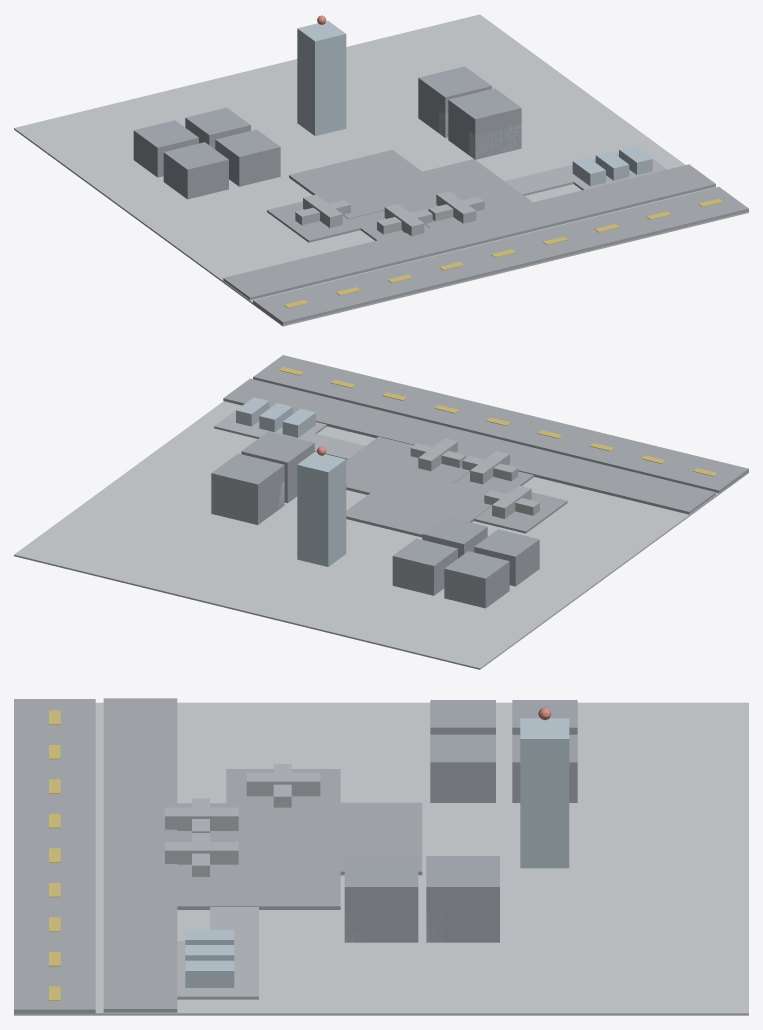
Rendered from stage_15.glb.
3 views of the same model, one above another, from view 1: azimuth 30°, elevation 25°; view 2: azimuth 150°, elevation 25°; view 3: azimuth 270°, elevation 25° (orthographic). The views are drawn at different scales.
Visible parts, largest first — view 1: geometry_0; view 2: geometry_0; view 3: geometry_0.
Part boxes in pixels (x1,y1,x2,y2): geometry_0: (14,14,748,326); geometry_0: (14,355,748,669); geometry_0: (14,698,748,1015).
Bounding box in the file's own units: 9 × 2.06 × 9.
